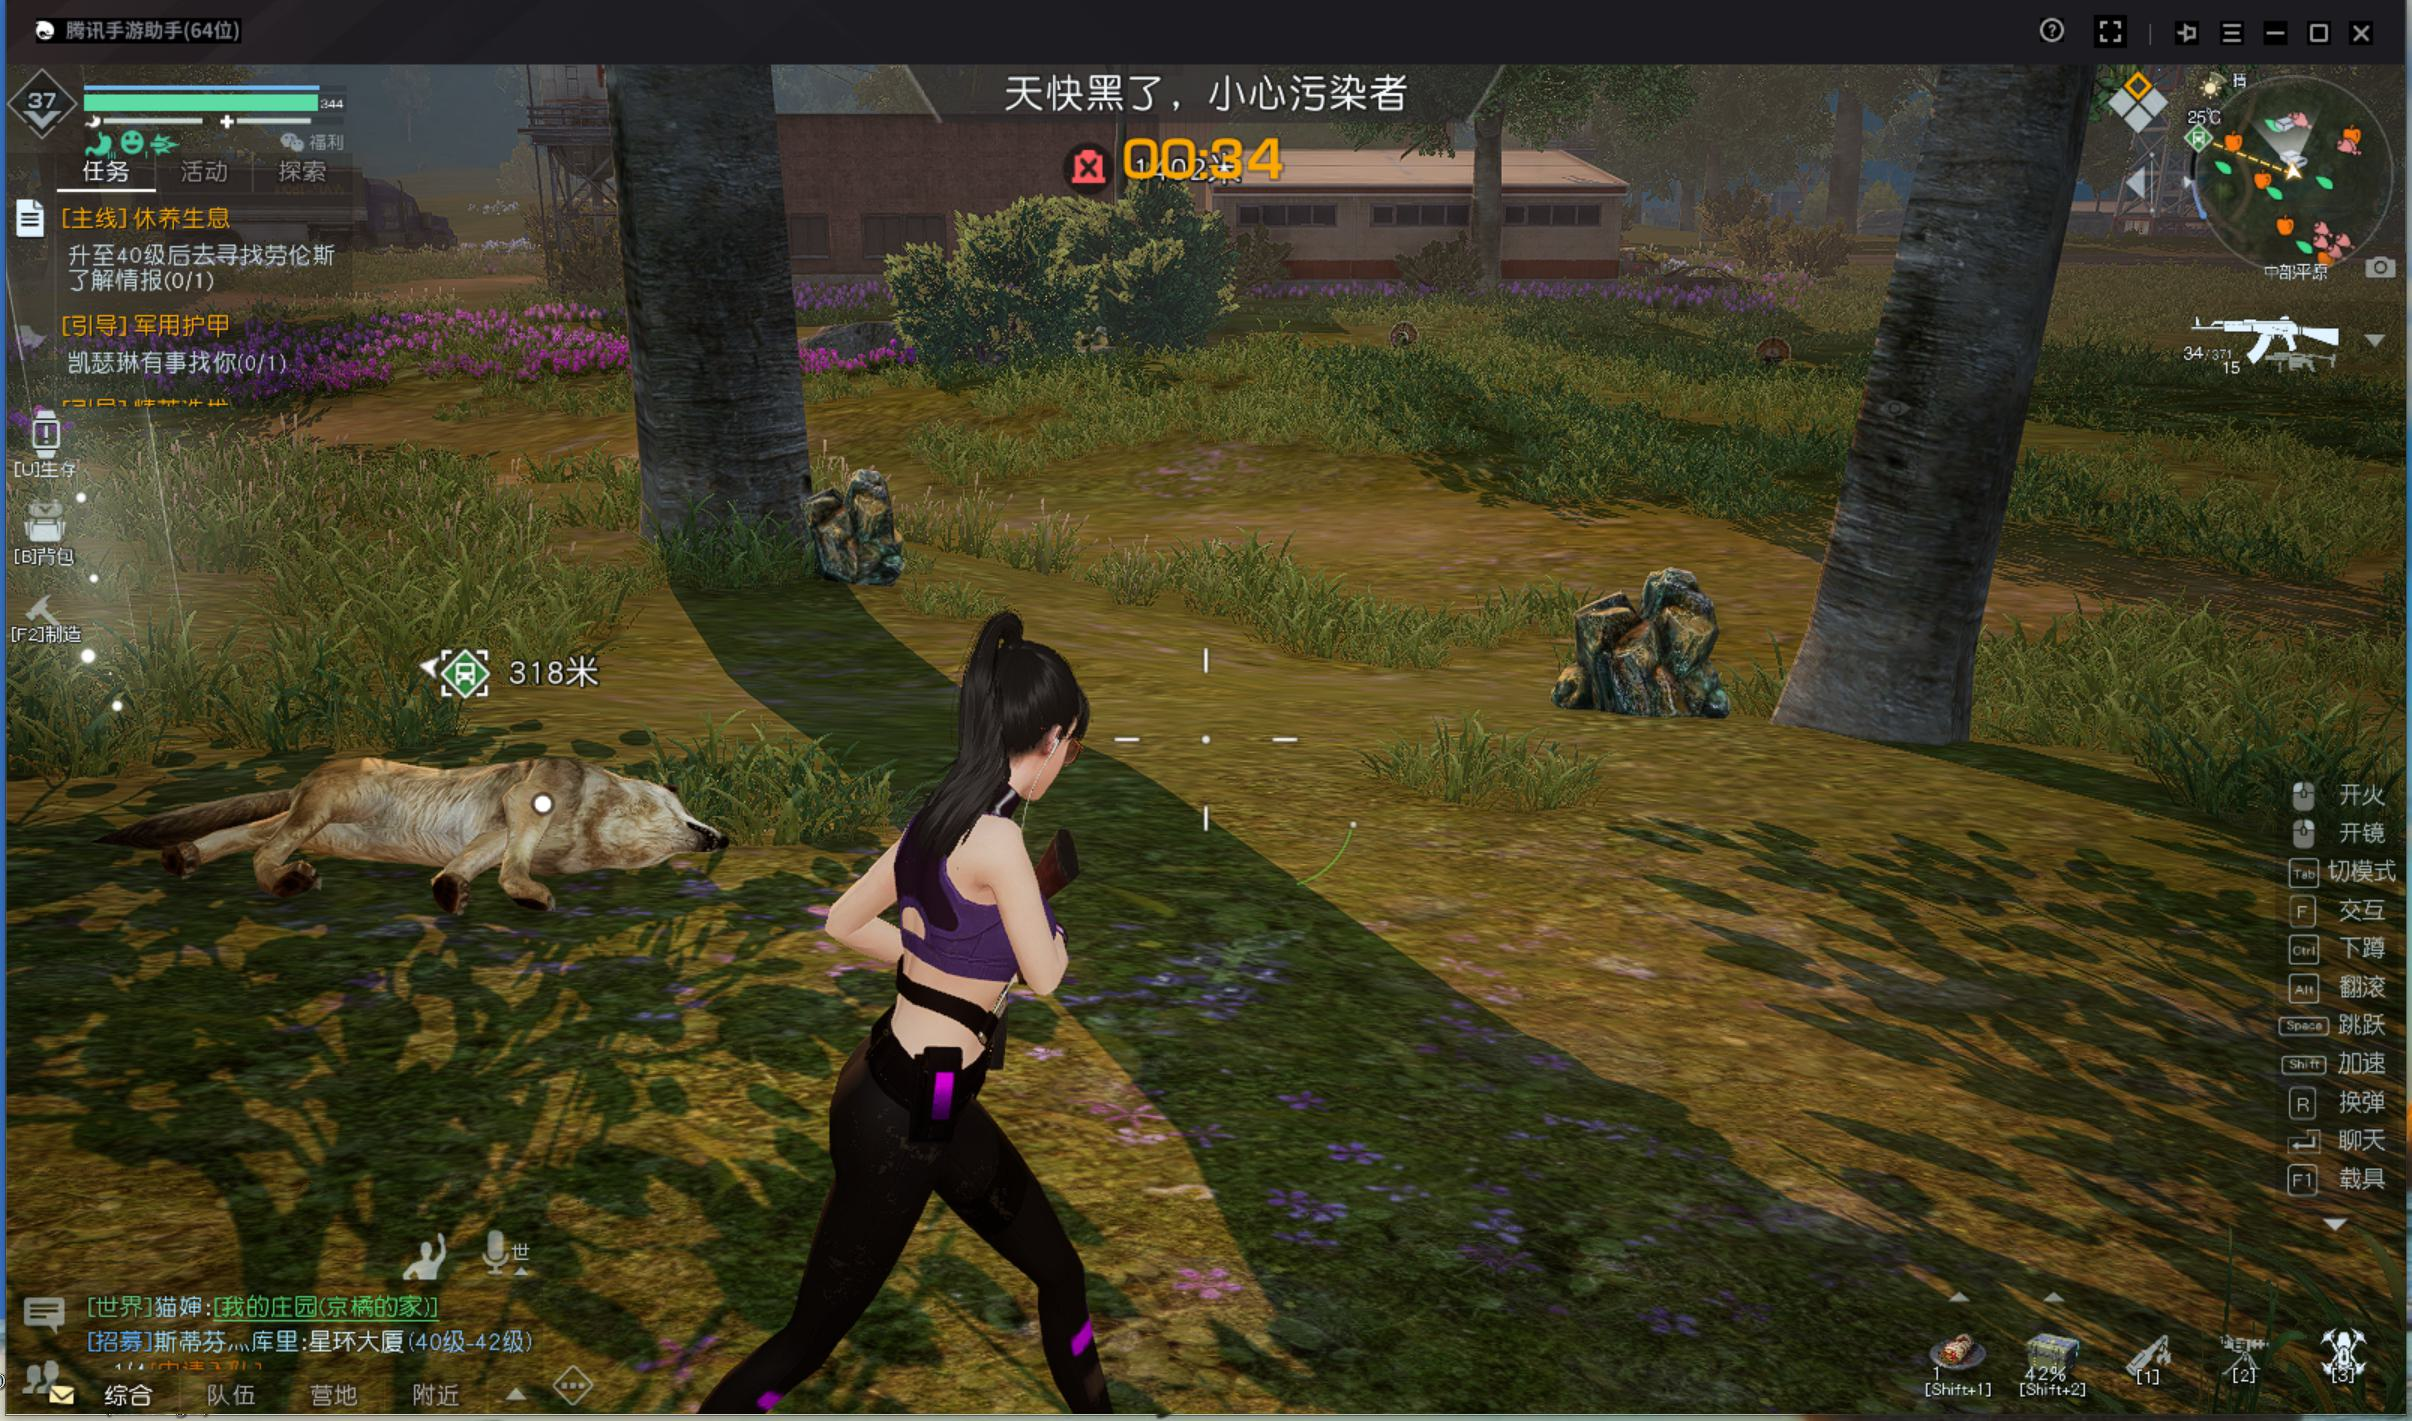stone: (1531, 531, 1740, 744), (785, 436, 940, 590)
tree: (1768, 103, 2026, 783), (1845, 167, 2045, 768), (600, 105, 810, 558), (1451, 139, 1509, 304)
